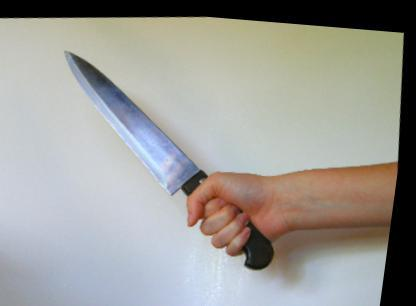knife: (40, 27, 281, 268)
